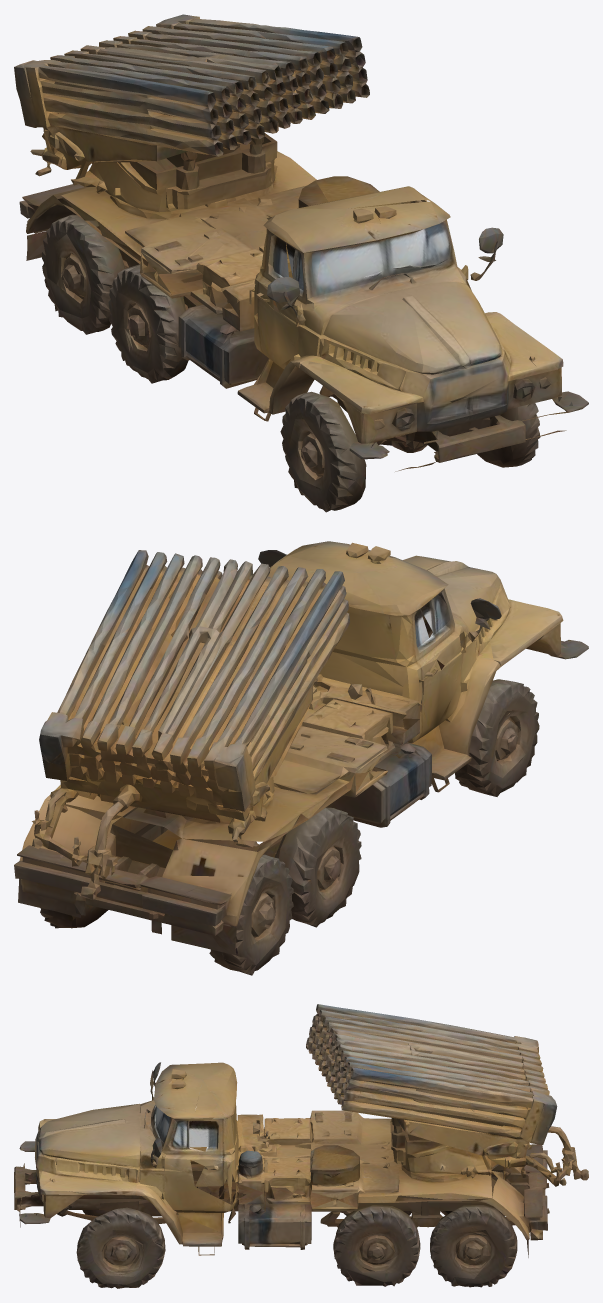
Rendered from bm21_grad.glb.
3 renders of one model, top to bottom at view 1: azimuth 30°, elevation 25°; view 2: azimuth 150°, elevation 25°; view 3: azimuth 270°, elevation 25°, orthographic. The views are drawn at different scales.
Visible parts, largest first — view 1: hull, launcher; view 2: launcher, hull; view 3: hull, launcher.
Boxes of the visible parts, <box> form: hull: <box>19,184,588,512</box>; launcher: <box>14,14,429,317</box>; launcher: <box>32,550,443,875</box>; hull: <box>14,541,588,975</box>; hull: <box>14,1062,588,1288</box>; launcher: <box>184,1004,576,1206</box>.
Size of the model in its own units: 2.59 by 3.17 by 7.35.
Materials: 1 (1 with a texture image).
